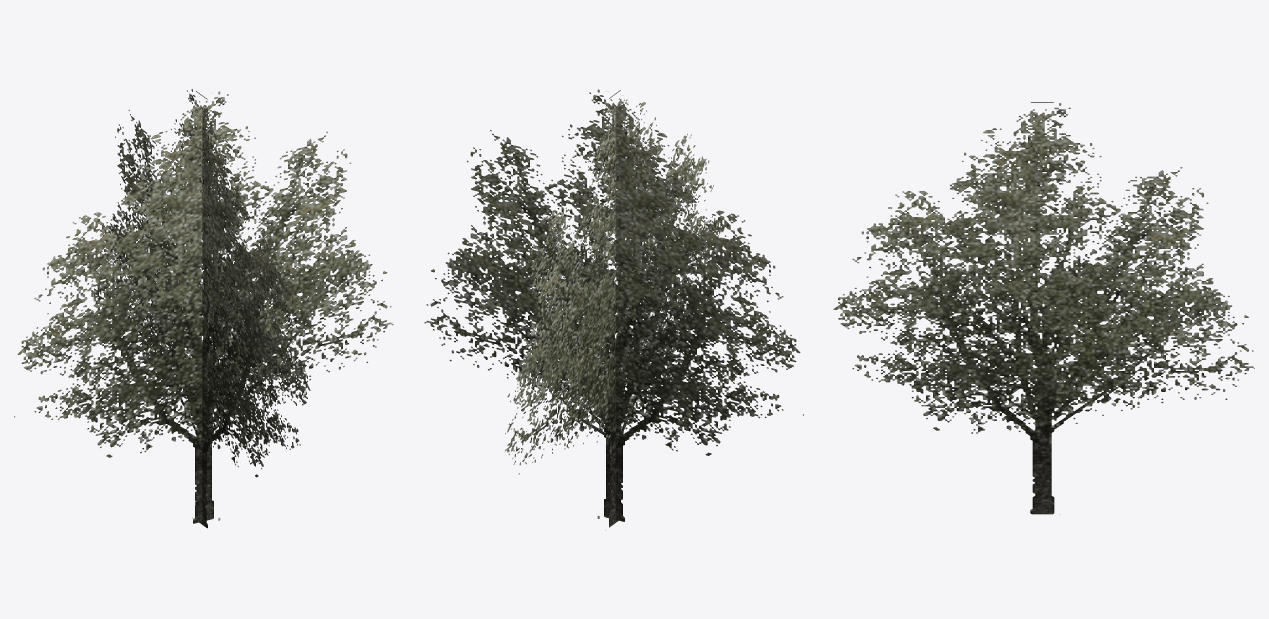
The model's file is Tree4.fbx.
3 renders of one model, left to right at view 1: azimuth 30°, elevation 25°; view 2: azimuth 150°, elevation 25°; view 3: azimuth 270°, elevation 25°, orthographic. The views are drawn at different scales.
Visible parts, largest first — view 1: Tree4; view 2: Tree4; view 3: Tree4.
Boxes of the visible parts, box(x1,y1,x2,y2) form: Tree4: box(14, 89, 393, 528); Tree4: box(424, 89, 803, 530); Tree4: box(833, 102, 1254, 514).
Bounding box in the file's own units: 1814 × 1956 × 1814.
